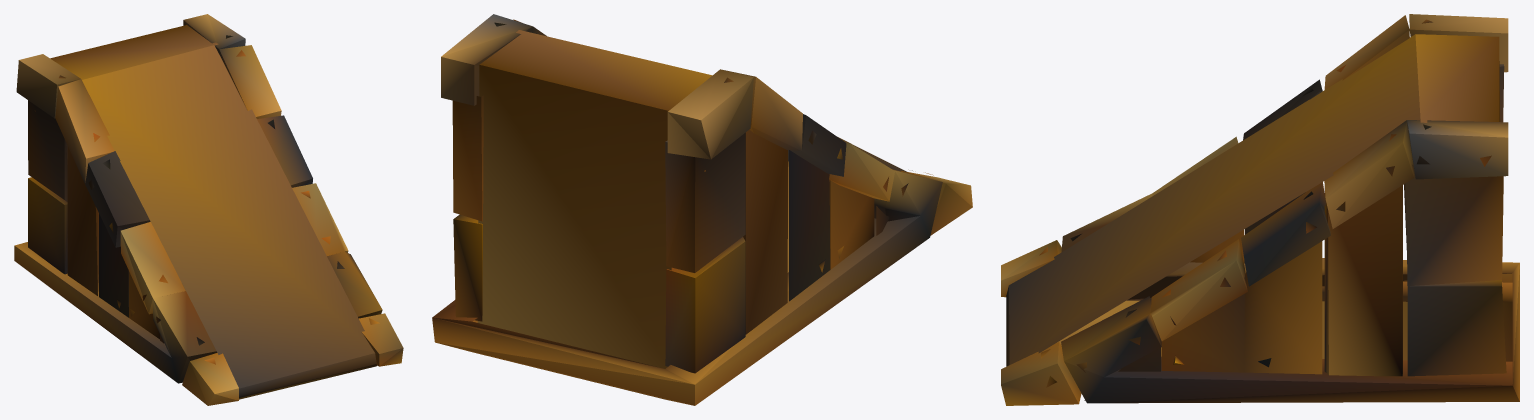
File: ramp_lo.glb
3 views of the same model, side by side, from view 1: azimuth 30°, elevation 25°; view 2: azimuth 150°, elevation 25°; view 3: azimuth 270°, elevation 25° (orthographic). The views are drawn at different scales.
Parts seen in each view (by area): view 1: geometry_0; view 2: geometry_0; view 3: geometry_0.
Boxes of the visible parts, x1,y1,x2,y2 form: geometry_0: [14, 14, 403, 405]; geometry_0: [432, 14, 972, 405]; geometry_0: [1001, 14, 1519, 405].
Size of the model in its own units: 0.5474 by 0.5547 by 0.9556.
